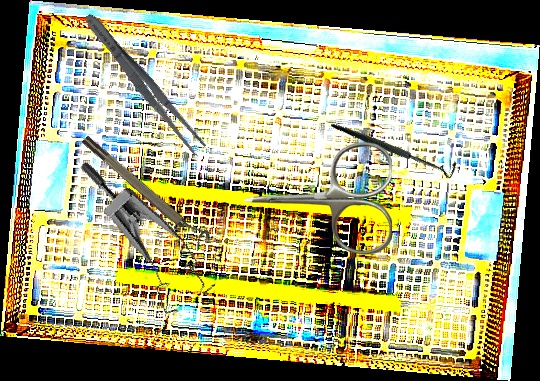Dressing Forceps: (79, 8, 209, 158)
Fixation Ring: (79, 128, 213, 251)
Hook Surgical: (330, 78, 462, 216)
Iris Scissors: (244, 142, 392, 255)
Speculum: (38, 158, 235, 329)
